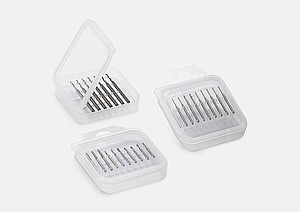PlasticBox: (152, 63, 249, 152)
